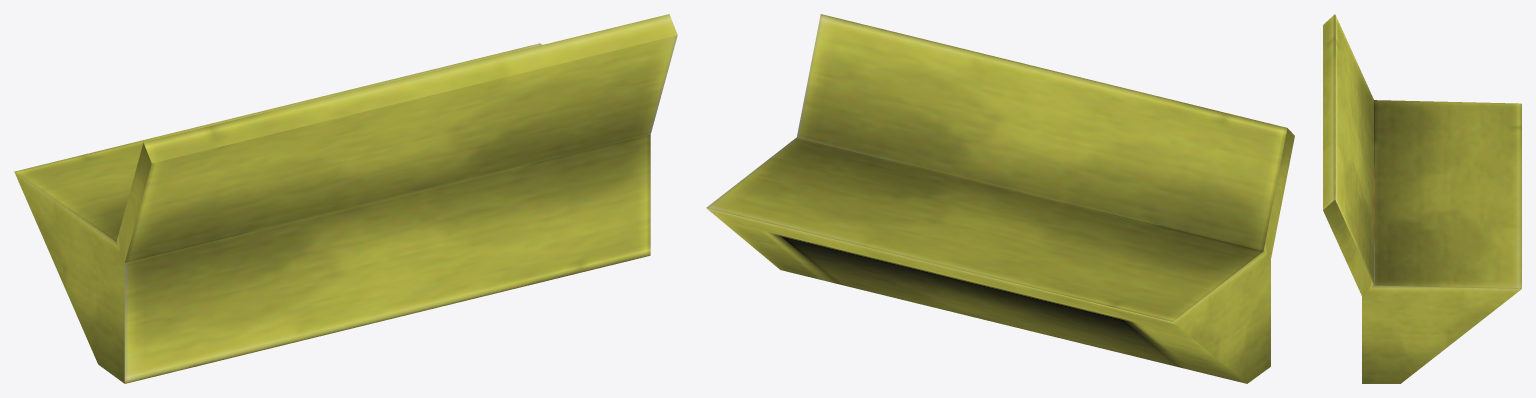
The model's file is bench03.glb.
3 views of the same model, side by side, from view 1: azimuth 30°, elevation 25°; view 2: azimuth 150°, elevation 25°; view 3: azimuth 270°, elevation 25° (orthographic). The views are drawn at different scales.
Visible parts, largest first — view 1: bench03; view 2: bench03; view 3: bench03.
Part boxes in pixels (x1,y1,x2,y2): bench03: (14, 14, 677, 383); bench03: (706, 14, 1294, 383); bench03: (1323, 14, 1521, 383).
Size of the model in its own units: 289 by 134 by 131.
1 material, 1 textured.
